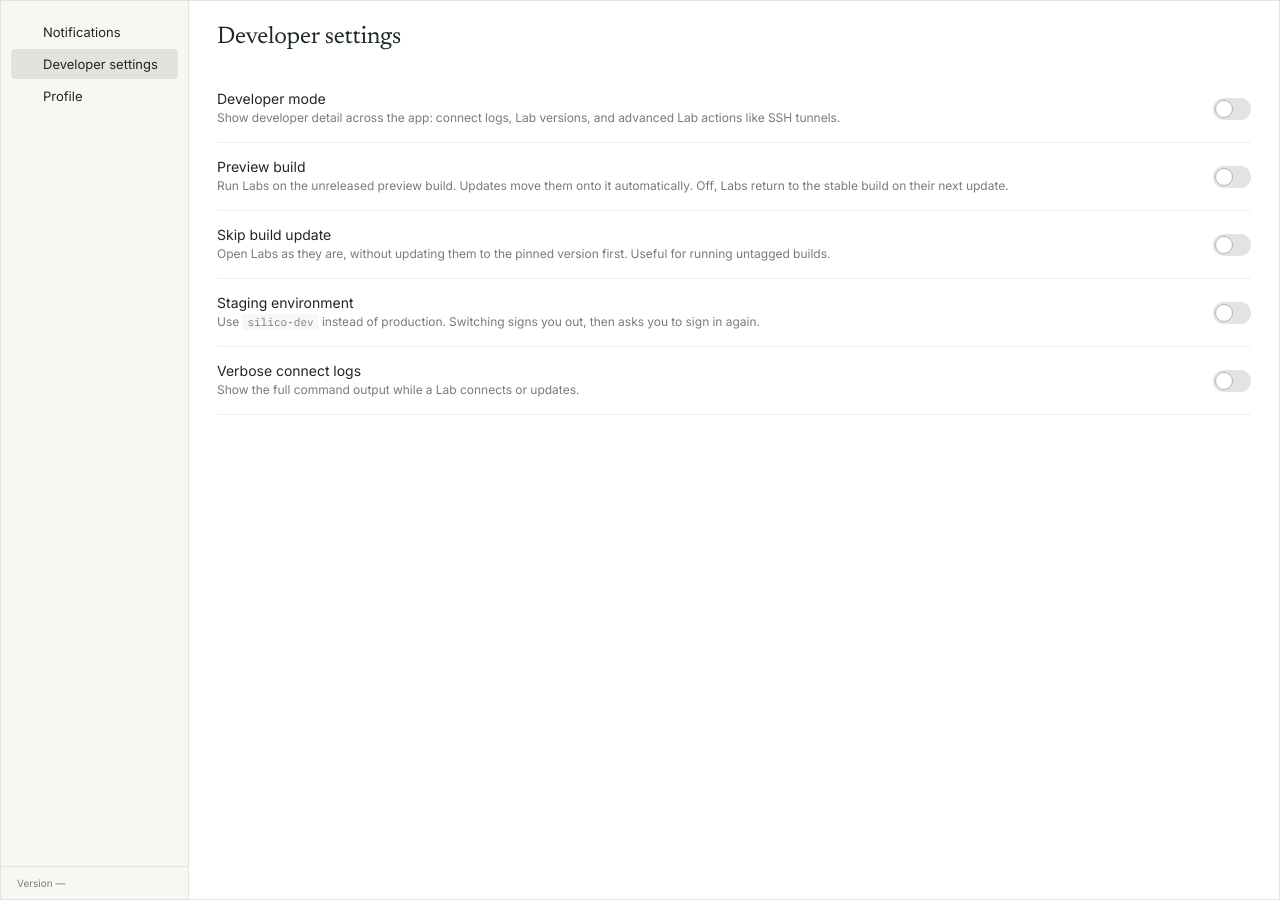
SettingsModal › renders tabs, toggles settings, confirms staging and closes on Escape
Later steps or results of the test are not shown.
expect the heading "Developer settings" is shown: met, box left=217, top=25, right=401, bottom=49
Click the switch named "Verbose connect logs".
click(1232, 380)  # box left=1213, top=370, right=1251, bottom=392
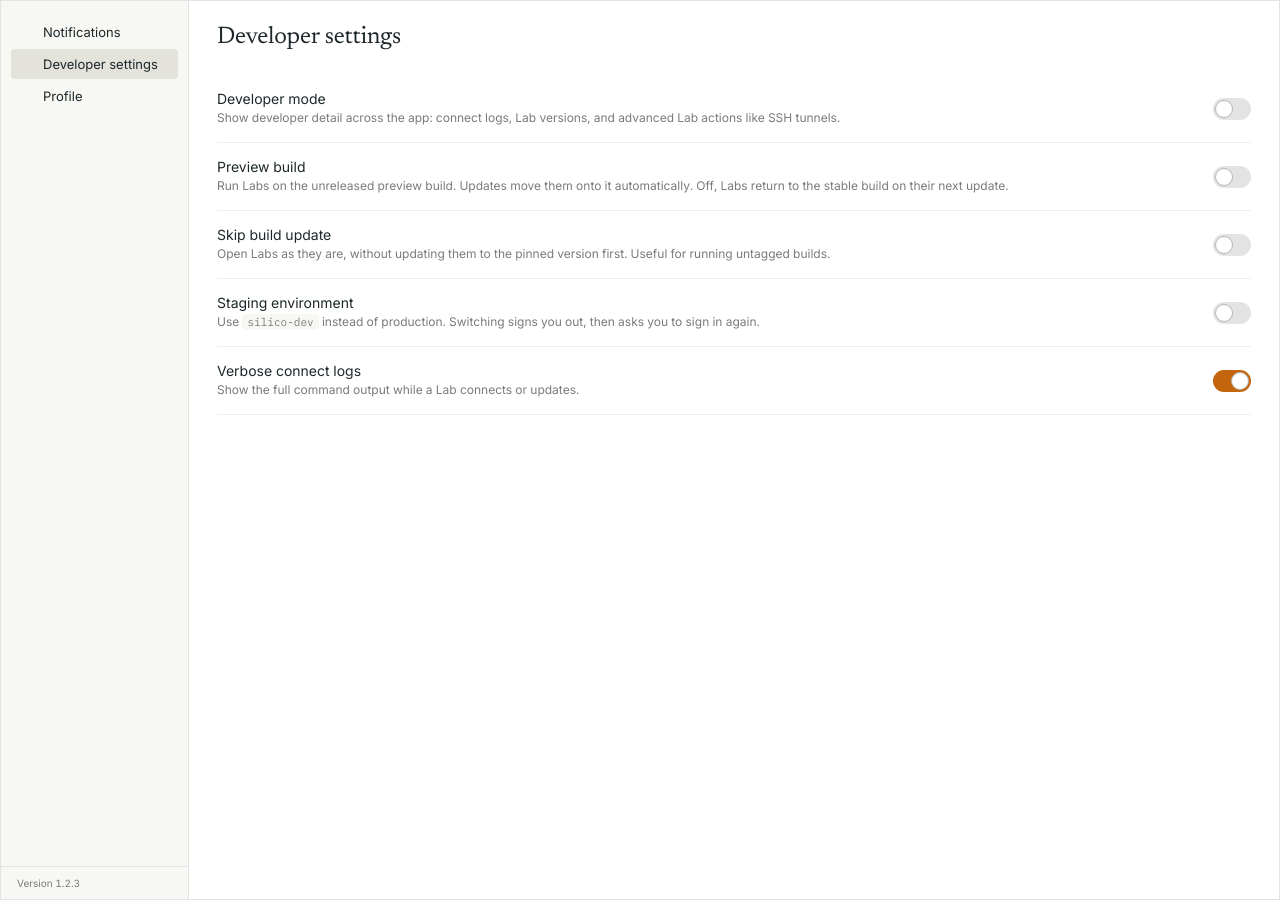
Click the switch named "Staging environment".
click(1232, 312)  # box left=1213, top=302, right=1251, bottom=324
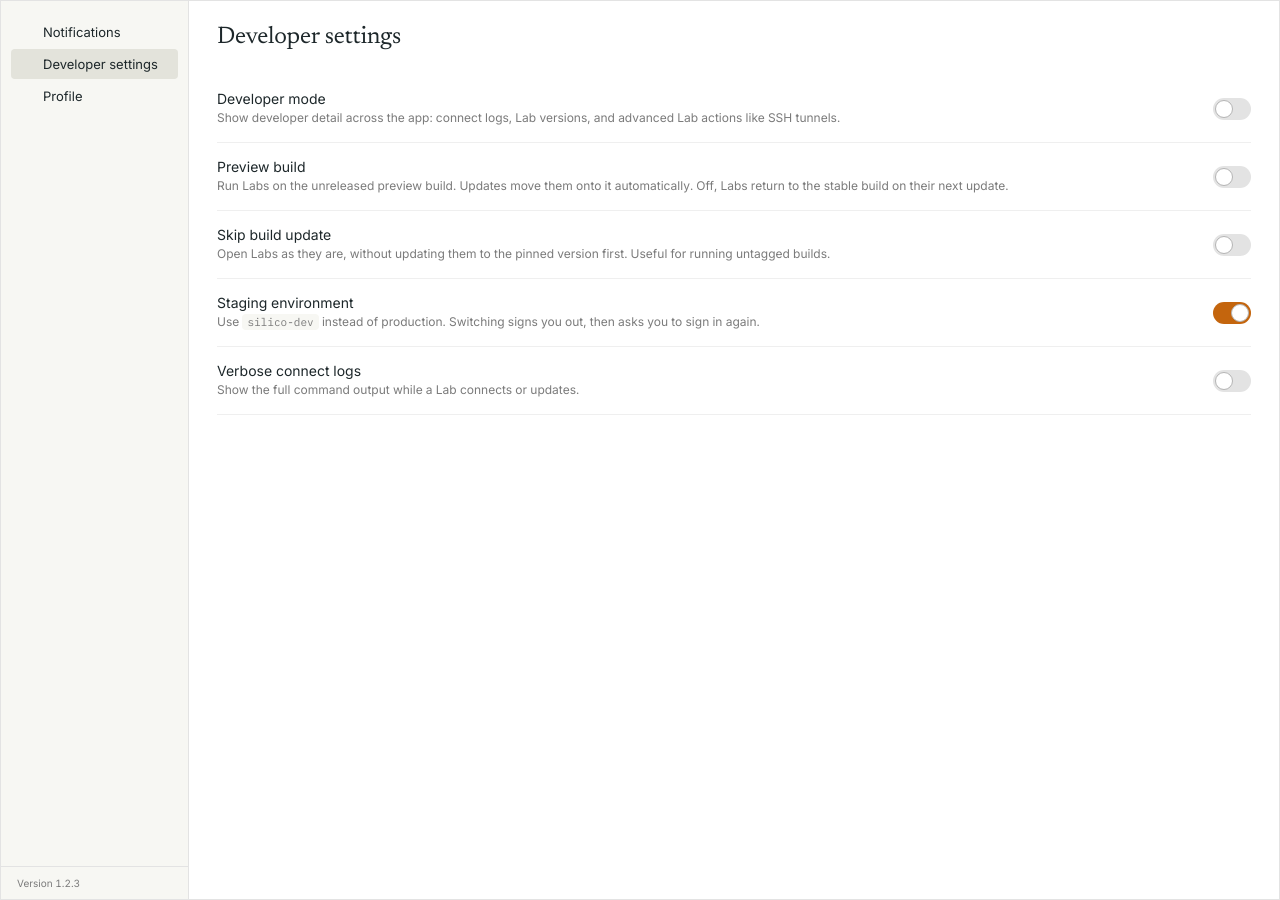
Click the button "Profile".
click(94, 96)  # box left=11, top=81, right=178, bottom=111
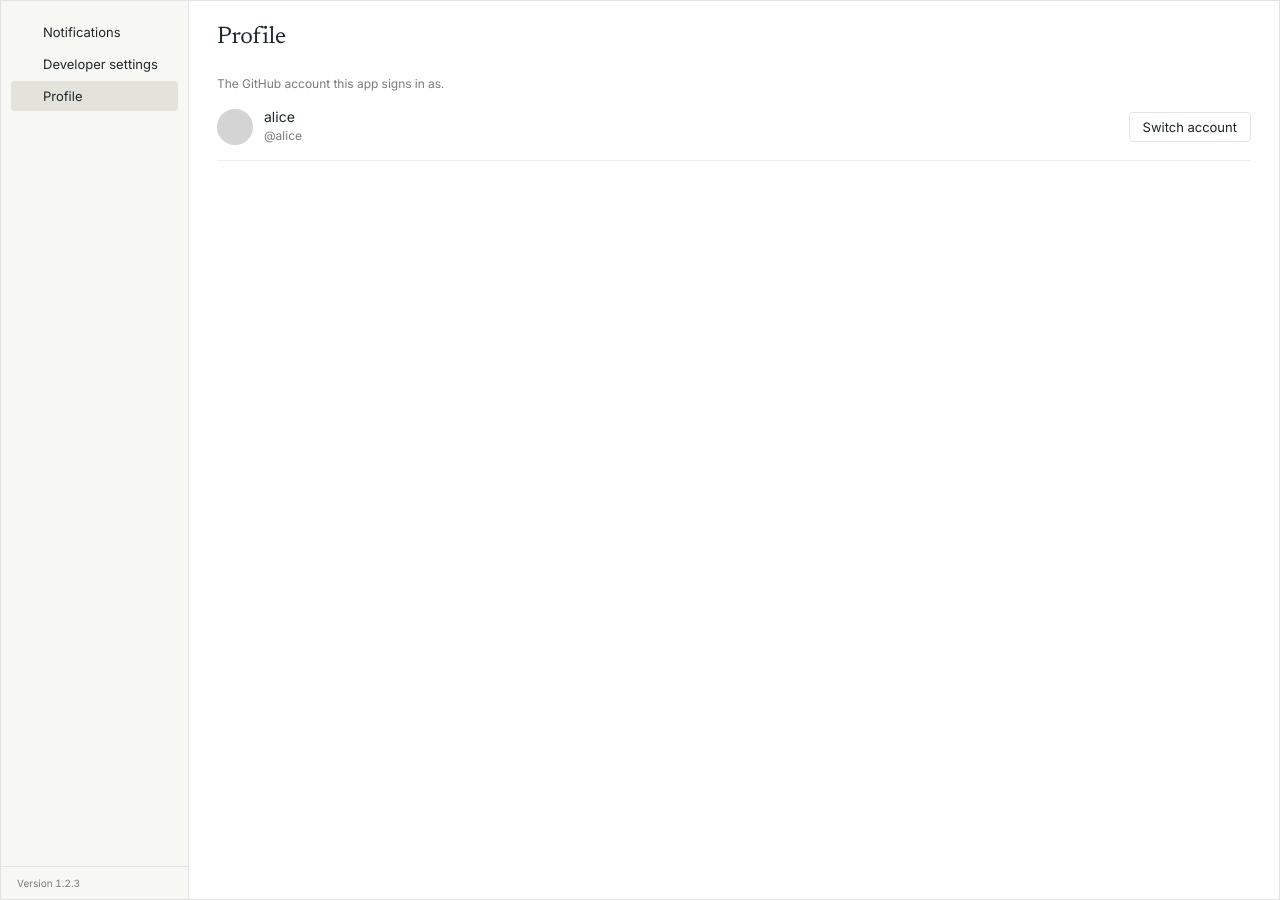
expect the text "@alice" is shown: met, box left=264, top=127, right=302, bottom=145
